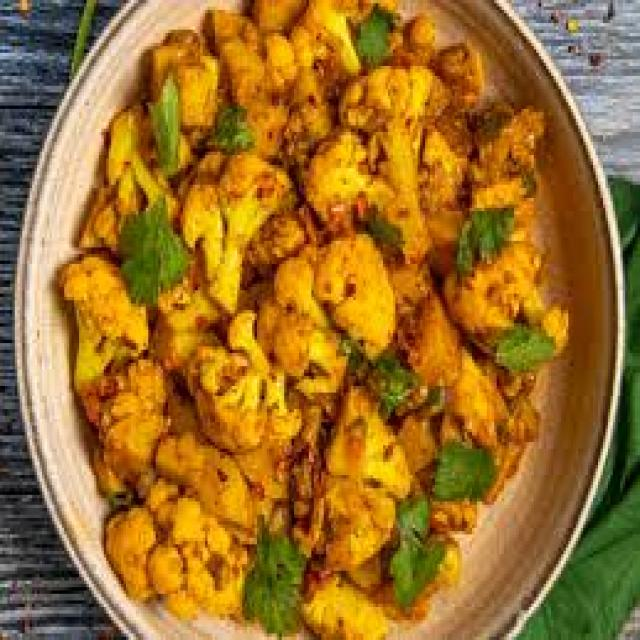Aloo Gobi: (163, 160, 384, 502)
